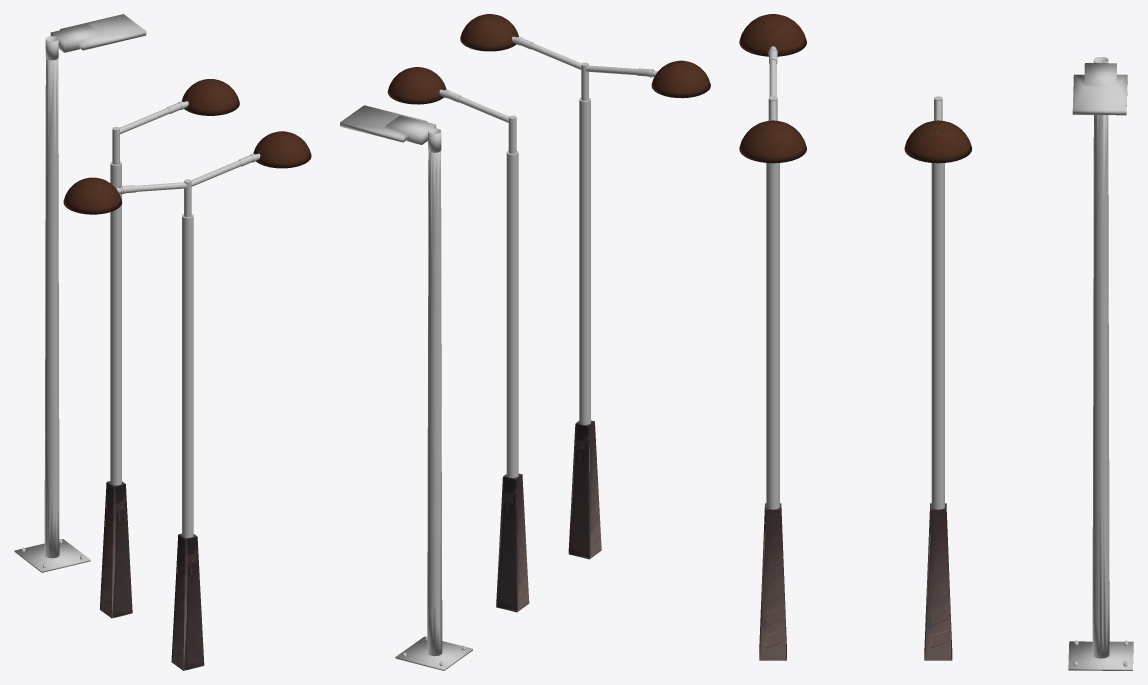
File: ColeccionFarolas.obj
3 renders of one model, left to right at view 1: azimuth 30°, elevation 25°; view 2: azimuth 150°, elevation 25°; view 3: azimuth 270°, elevation 25°, orthographic. The views are drawn at different scales.
Visible parts, largest first — view 1: Mastil, Farola.004, Farola.001, Farola, Farola.003, Glass.002, Farola.006, Farola.005, Farola.002; view 2: Mastil, Farola.004, Farola.001, Farola, Farola.003, Glass.002, Farola.006, Farola.002, Farola.005; view 3: Mastil, Farola.004, Farola.001, Farola, Farola.003, Glass.002, Farola.005, Farola.002, Farola.006.
Part boxes in pixels (bbox=[...]): Mastil: bbox=[14, 59, 90, 572]; Farola.004: bbox=[116, 153, 260, 537]; Farola.001: bbox=[110, 101, 188, 485]; Farola: bbox=[99, 481, 132, 618]; Farola.003: bbox=[171, 533, 204, 670]; Glass.002: bbox=[45, 14, 146, 60]; Farola.006: bbox=[63, 177, 122, 214]; Farola.005: bbox=[253, 131, 311, 168]; Farola.002: bbox=[181, 79, 239, 115]; Mastil: bbox=[395, 151, 472, 670]; Farola.004: bbox=[512, 36, 657, 424]; Farola.001: bbox=[439, 89, 518, 477]; Farola: bbox=[496, 473, 529, 612]; Farola.003: bbox=[568, 420, 601, 559]; Glass.002: bbox=[340, 105, 441, 152]; Farola.006: bbox=[651, 60, 710, 98]; Farola.002: bbox=[387, 67, 446, 104]; Farola.005: bbox=[460, 14, 518, 51]; Mastil: bbox=[1068, 115, 1133, 670]; Farola.004: bbox=[766, 46, 779, 509]; Farola.001: bbox=[931, 96, 944, 509]; Farola: bbox=[924, 503, 952, 660]; Farola.003: bbox=[759, 503, 786, 660]; Glass.002: bbox=[1072, 57, 1127, 115]; Farola.005: bbox=[739, 120, 806, 163]; Farola.002: bbox=[904, 120, 971, 163]; Farola.006: bbox=[739, 14, 806, 56].
Bounding box in the file's own units: 1.96 × 4.04 × 2.41.
